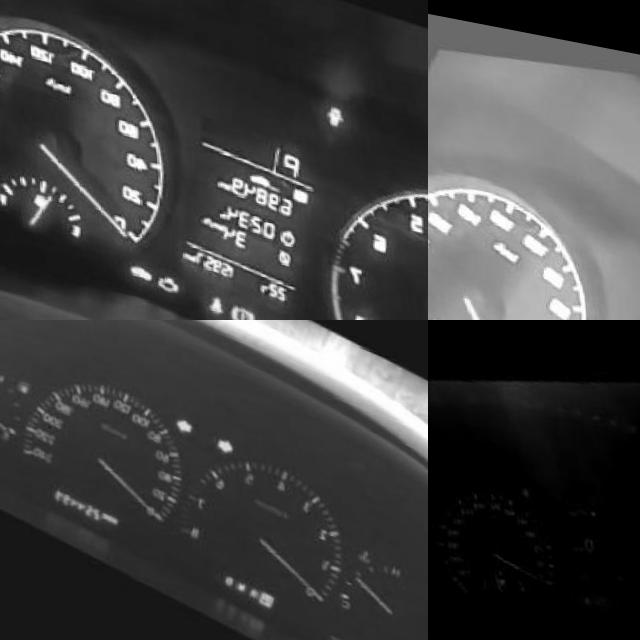Engine cooling system: (354, 528, 373, 548)
Low fuel level: (17, 370, 32, 388)
Seat Belt: (193, 272, 213, 297)
